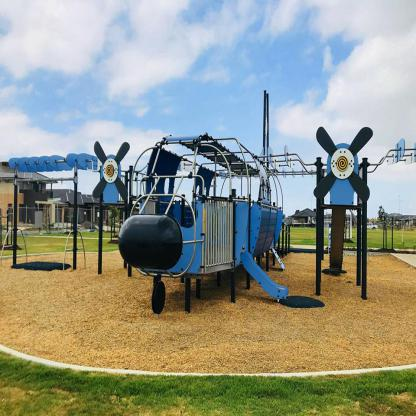CIV_Plane: (88, 96, 376, 315)
